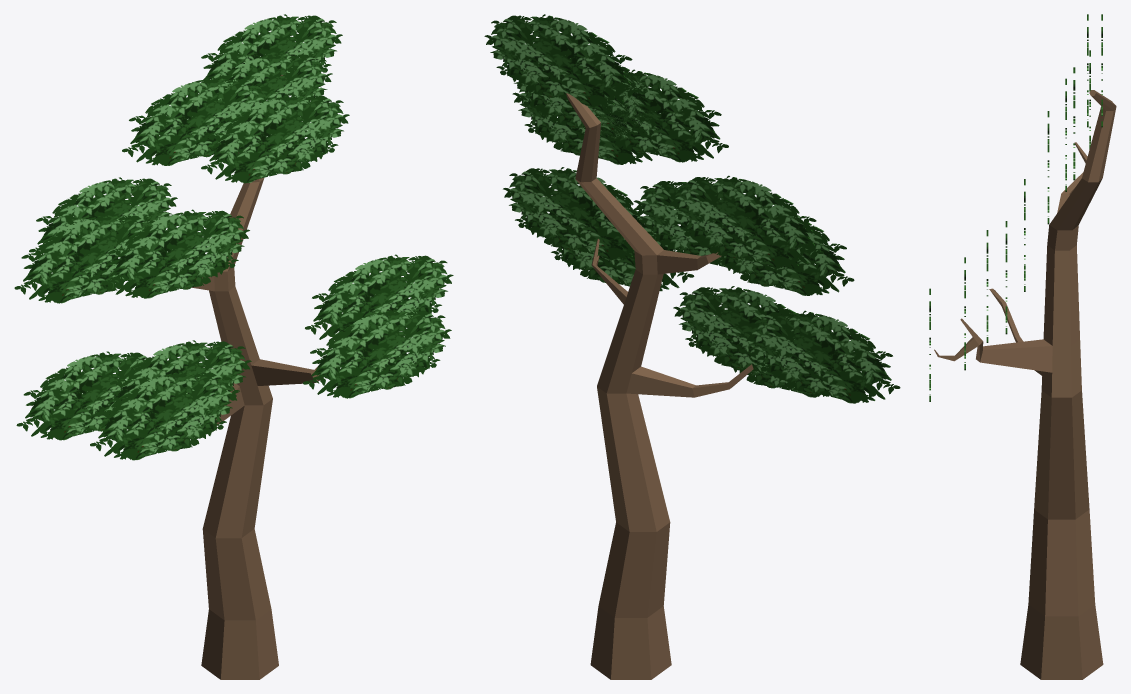
Rendered from TreewithLeafCorrect_Pivot.fbx.
The picture shows the model from 3 angles, left to right: view 1: azimuth 30°, elevation 25°; view 2: azimuth 150°, elevation 25°; view 3: azimuth 270°, elevation 25°; orthographic projection. The views are drawn at different scales.
Parts seen in each view (by area): view 1: Cylinder.005; view 2: Cylinder.005; view 3: Cylinder.005.
Boxes of the visible parts, x1=… form: Cylinder.005: x1=14, y1=14, x2=453, y2=679; Cylinder.005: x1=484, y1=14, x2=900, y2=679; Cylinder.005: x1=929, y1=14, x2=1116, y2=679.
Bounding box in the file's own units: 1512 × 2195 × 560.
Materials: 2 (2 with a texture image).
